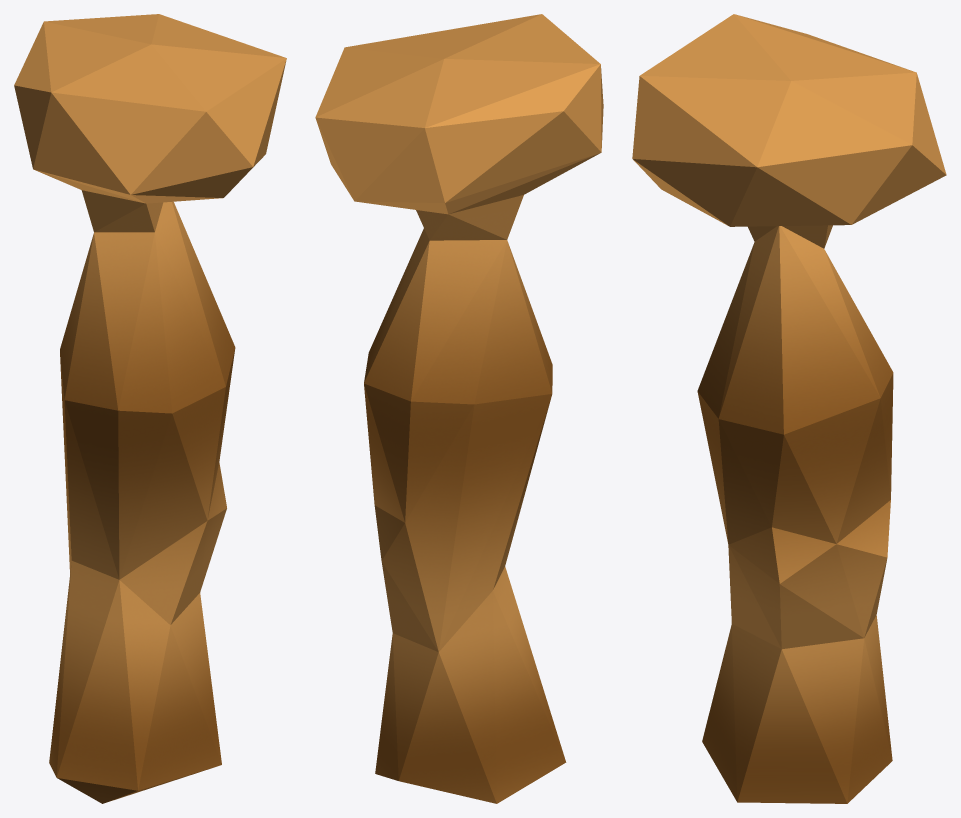
The model's file is hoodooTall.fbx.
3 views of the same model, side by side, from view 1: azimuth 30°, elevation 25°; view 2: azimuth 150°, elevation 25°; view 3: azimuth 270°, elevation 25° (orthographic).
Parts seen in each view (by area): view 1: hoodooTall; view 2: hoodooTall; view 3: hoodooTall.
Part boxes in pixels (bbox=[...]): hoodooTall: bbox=[14, 14, 286, 803]; hoodooTall: bbox=[315, 14, 603, 803]; hoodooTall: bbox=[632, 14, 946, 803].
Size of the model in its own units: 481 by 1298 by 517.
